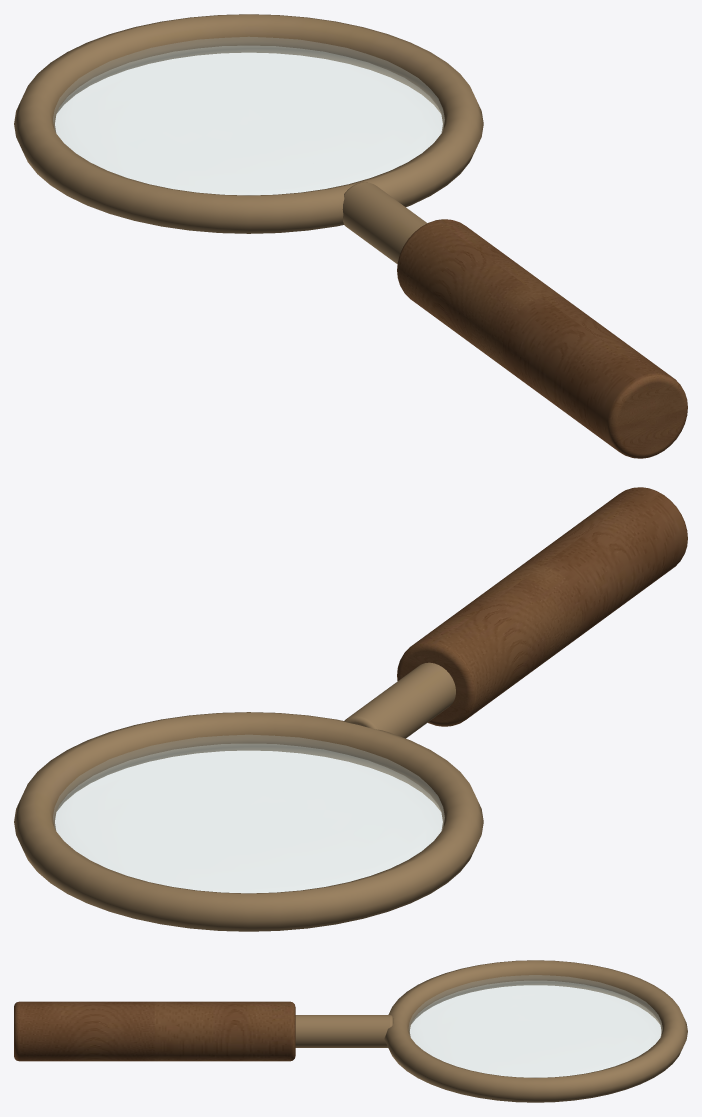
File: investigation-glass-magnifier.glb
3 renders of one model, top to bottom at view 1: azimuth 30°, elevation 25°; view 2: azimuth 150°, elevation 25°; view 3: azimuth 270°, elevation 25°, orthographic. The views are drawn at different scales.
Parts seen in each view (by area): view 1: Convex magnifying glass lens, Magnifying lens metal bezel, Walnut magnifier handgrip, Magnifier handle tang; view 2: Convex magnifying glass lens, Magnifying lens metal bezel, Walnut magnifier handgrip, Magnifier handle tang; view 3: Convex magnifying glass lens, Walnut magnifier handgrip, Magnifying lens metal bezel, Magnifier handle tang.
Boxes of the visible parts, x1=… form: Convex magnifying glass lens: x1=53, y1=37, x2=444, y2=195; Magnifying lens metal bezel: x1=14, y1=14, x2=483, y2=233; Walnut magnifier handgrip: x1=397, y1=219, x2=687, y2=458; Magnifier handle tang: x1=342, y1=182, x2=427, y2=264; Convex magnifying glass lens: x1=53, y1=735, x2=444, y2=893; Magnifying lens metal bezel: x1=14, y1=712, x2=483, y2=931; Walnut magnifier handgrip: x1=397, y1=487, x2=687, y2=726; Magnifier handle tang: x1=344, y1=662, x2=455, y2=738; Convex magnifying glass lens: x1=409, y1=975, x2=662, y2=1077; Walnut magnifier handgrip: x1=14, y1=1001, x2=295, y2=1061; Magnifying lens metal bezel: x1=384, y1=960, x2=687, y2=1102; Magnifier handle tang: x1=295, y1=1015, x2=393, y2=1047.
Bounding box in the file's own units: 0.092 × 0.018 × 0.2035.
3 materials, 3 textured.
